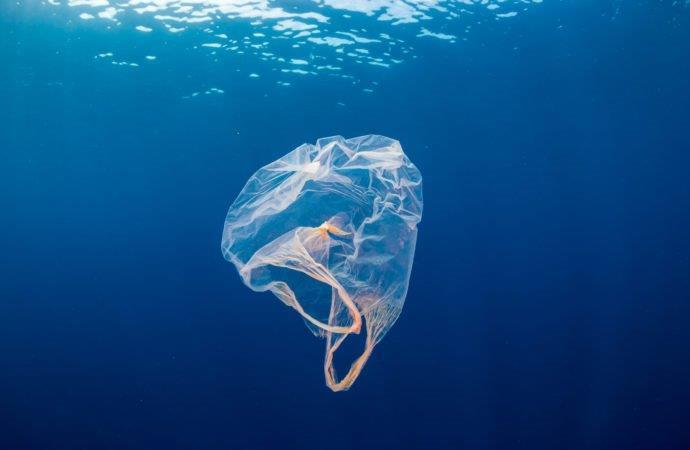plastic: (219, 129, 428, 395)
